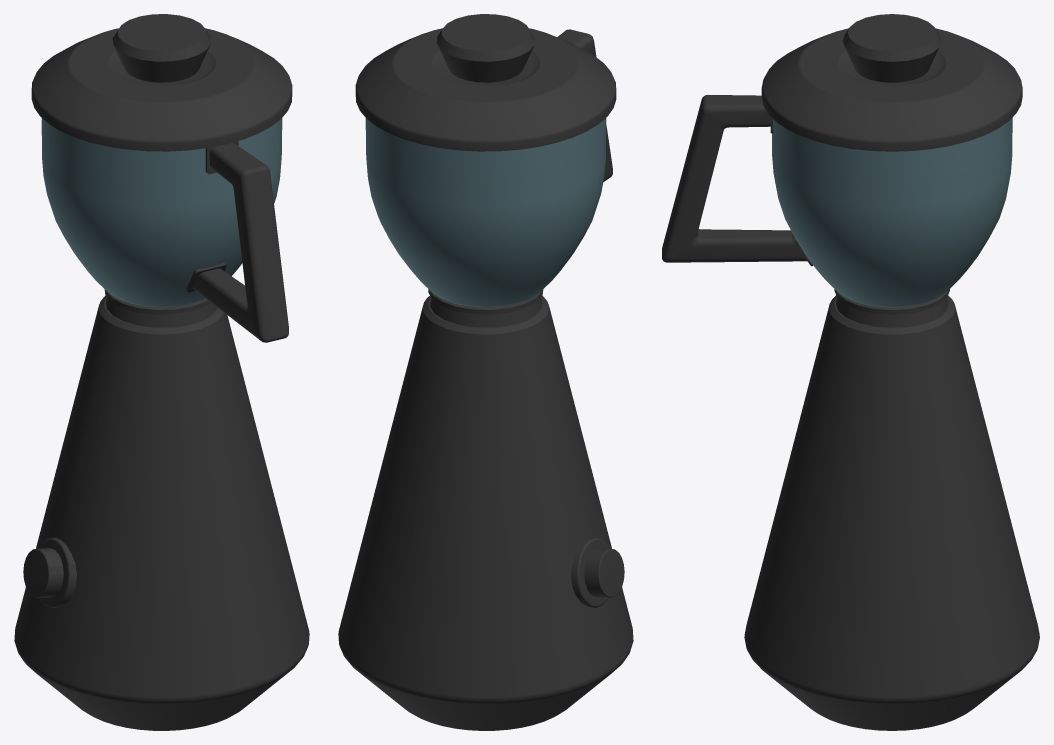
The model's file is SM_Blender.fbx.
The picture shows the model from 3 angles, left to right: view 1: azimuth 30°, elevation 25°; view 2: azimuth 150°, elevation 25°; view 3: azimuth 270°, elevation 25°; orthographic projection.
Parts seen in each view (by area): view 1: SM_Blender_LOD0; view 2: SM_Blender_LOD0; view 3: SM_Blender_LOD0.
Part boxes in pixels (x1=…): SM_Blender_LOD0: x1=14, y1=14, x2=309, y2=730; SM_Blender_LOD0: x1=338, y1=14, x2=633, y2=730; SM_Blender_LOD0: x1=662, y1=14, x2=1039, y2=730.
Size of the model in its own units: 29.72 by 37.68 by 73.07.
